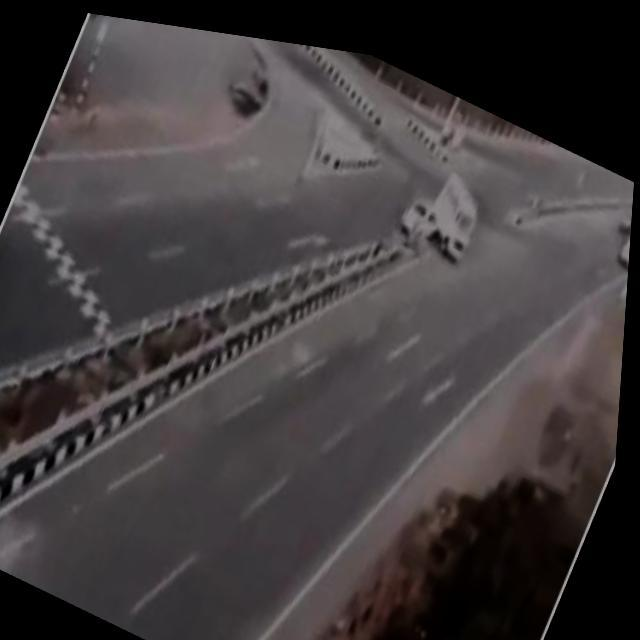Car Accident Detector - v4 Generation1 Exported: (395, 144, 496, 258)
